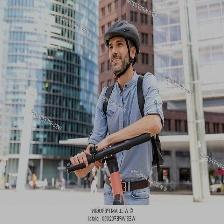Person: (87, 9, 173, 209)
no-helmet: (105, 17, 140, 50)
no-vest: (95, 71, 153, 190)
